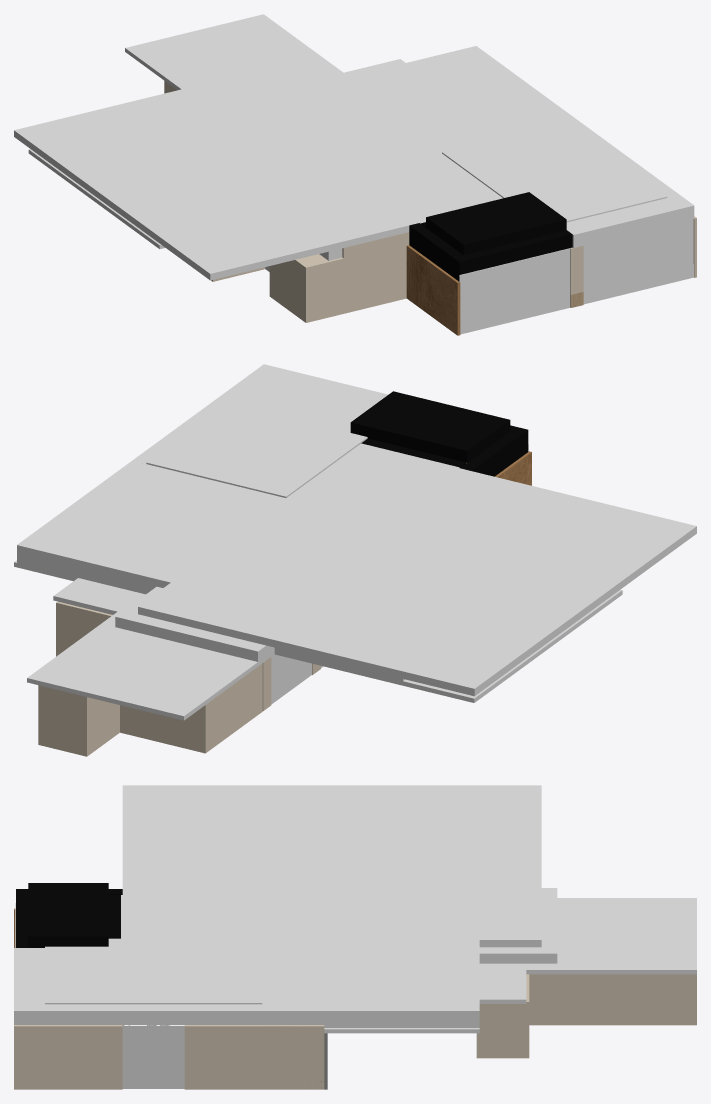
File: MainLobby.fbx
3 views of the same model, one above another, from view 1: azimuth 30°, elevation 25°; view 2: azimuth 150°, elevation 25°; view 3: azimuth 270°, elevation 25° (orthographic). The views are drawn at different scales.
Parts seen in each view (by area): view 1: Roof.020, Roof, Roof.002, Roof.012, Roof.009, Glass 1.008, 6 m.001, Pharmacies Room, Roof.001, 7 m.003, Roof.008, Roof.007 (+12 smaller); view 2: Roof.020, Roof, Roof.002, Roof.012, Roof.009, 5 m.007, Roof.015, 5 m.005, 5 m.006, Roof Tilted 4, Roof.013, Roof.001 (+7 smaller); view 3: Roof.020, Roof, Roof.002, Roof.012, 9 m.002, 10 m.004, 7 m.001, Roof.009, Roof.019, 5 m.004, Roof.001, Roof.013 (+12 smaller).
Boxes of the visible parts, x1,y1,x2,y2 form: Roof.020: [14, 58, 502, 280]; Roof: [340, 46, 577, 152]; Roof.002: [457, 122, 667, 222]; Roof.012: [125, 14, 343, 90]; Roof.009: [426, 192, 566, 255]; Glass 1.008: [459, 248, 570, 321]; 6 m.001: [342, 232, 409, 313]; Pharmacies Room: [269, 254, 343, 322]; Roof.001: [566, 195, 694, 247]; 7 m.003: [406, 245, 460, 335]; Roof.008: [464, 230, 572, 272]; Roof.007: [409, 223, 469, 281]; Roof.020: [138, 444, 696, 696]; Roof: [17, 460, 285, 594]; Roof.002: [146, 378, 373, 493]; Roof.012: [27, 611, 274, 720]; Roof.009: [350, 391, 510, 462]; 5 m.007: [202, 663, 262, 753]; Roof.015: [115, 611, 274, 661]; 5 m.005: [41, 686, 83, 755]; 5 m.006: [120, 705, 202, 752]; Roof Tilted 4: [274, 589, 622, 702]; Roof.013: [53, 578, 145, 614]; Roof.001: [248, 364, 388, 405]; Roof.020: [122, 785, 541, 947]; Roof: [262, 940, 479, 1027]; Roof.002: [45, 946, 262, 1004]; Roof.012: [526, 898, 696, 974]; 9 m.002: [184, 1025, 324, 1089]; 10 m.004: [529, 974, 681, 1025]; 7 m.001: [14, 1025, 122, 1089]; Roof.009: [28, 883, 108, 947]; Roof.019: [45, 1004, 262, 1024]; 5 m.004: [479, 1004, 526, 1058]; Roof.001: [14, 948, 44, 1024]; Roof.013: [479, 963, 526, 1003].
Bounding box in the file's own units: 3460 × 654 × 4400.
